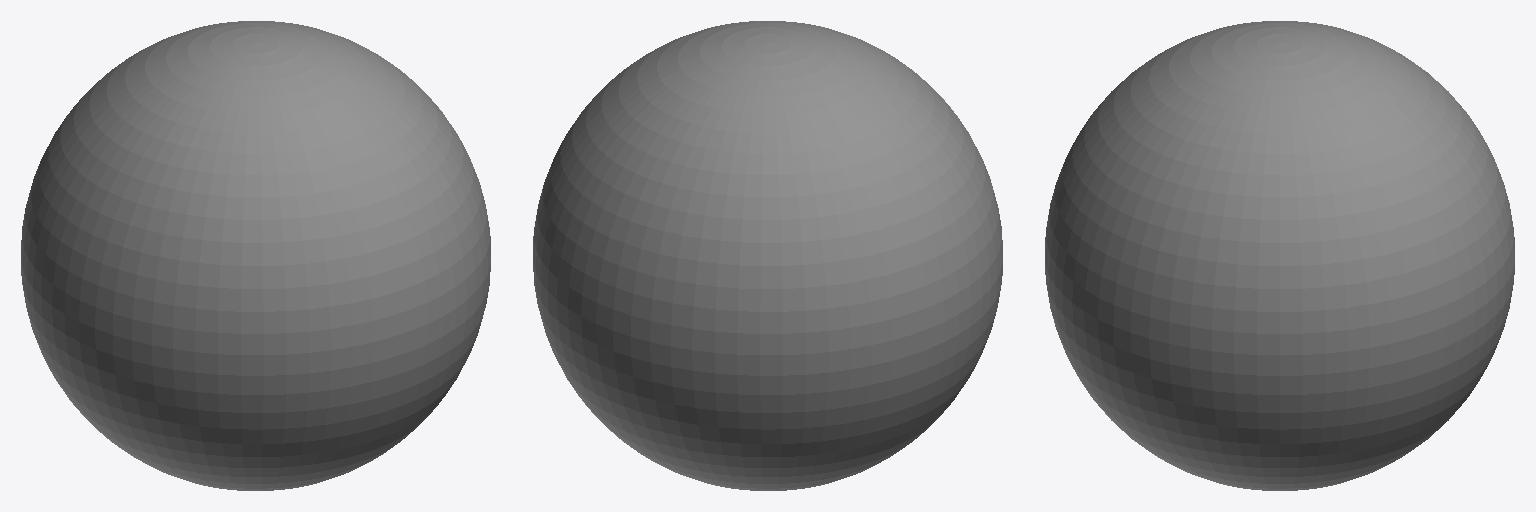
Rendered from Earth3968Tris.obj.
3 renders of one model, left to right at view 1: azimuth 30°, elevation 25°; view 2: azimuth 150°, elevation 25°; view 3: azimuth 270°, elevation 25°, orthographic.
Parts seen in each view (by area): view 1: Earth3968tris; view 2: Earth3968tris; view 3: Earth3968tris.
Part boxes in pixels (bbox=[...]): Earth3968tris: bbox=[21, 21, 490, 490]; Earth3968tris: bbox=[533, 21, 1002, 490]; Earth3968tris: bbox=[1045, 21, 1514, 490].
Size of the model in its own units: 757 by 757 by 757.